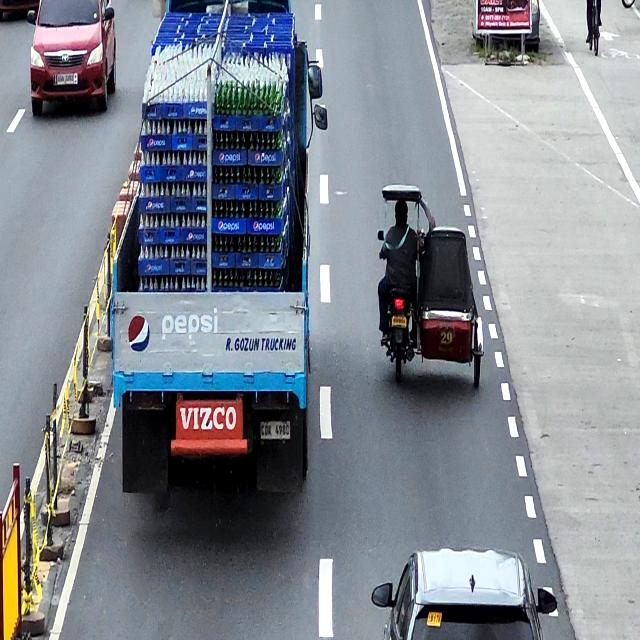Bicycle: (586, 0, 603, 57)
Car: (371, 548, 557, 640), (27, 0, 118, 118)
License-Plate: (260, 421, 291, 441), (57, 74, 74, 85), (392, 315, 406, 328)
Tricycle: (378, 184, 483, 389)
Truck: (112, 0, 328, 493)
